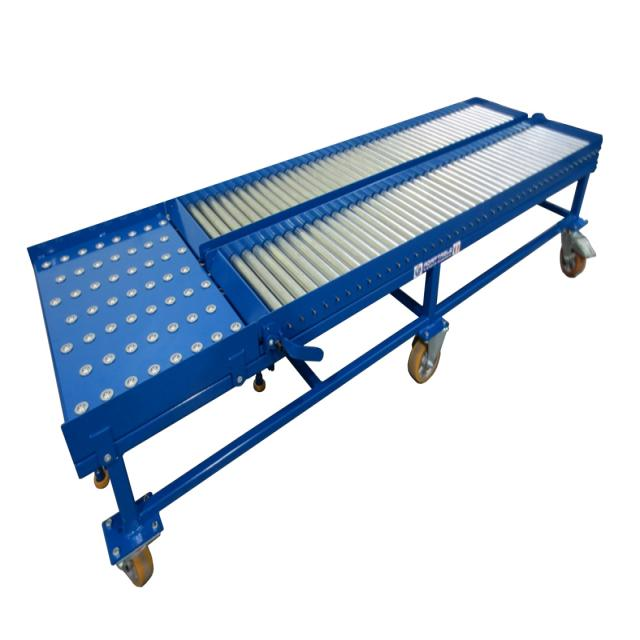Convoyeur: (207, 113, 612, 339), (165, 86, 533, 246)
